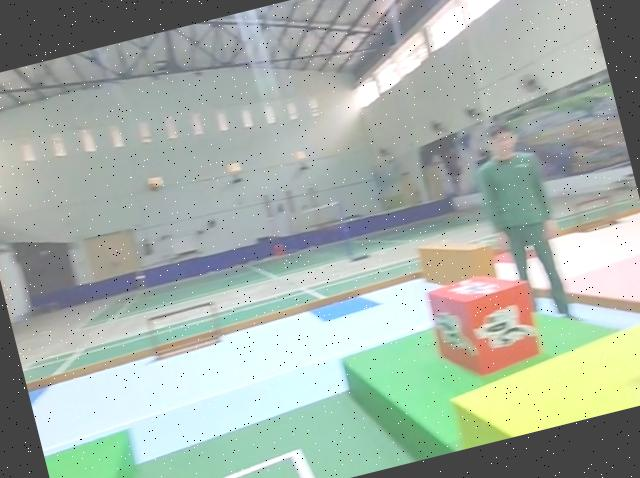R1: (425, 265, 545, 385)
